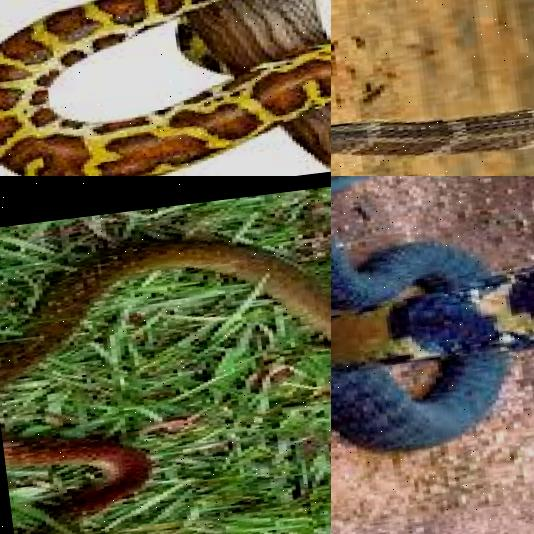1: (331, 176, 534, 471)
2: (0, 205, 331, 534)
5: (331, 0, 534, 176)
snake: (0, 0, 331, 176)
